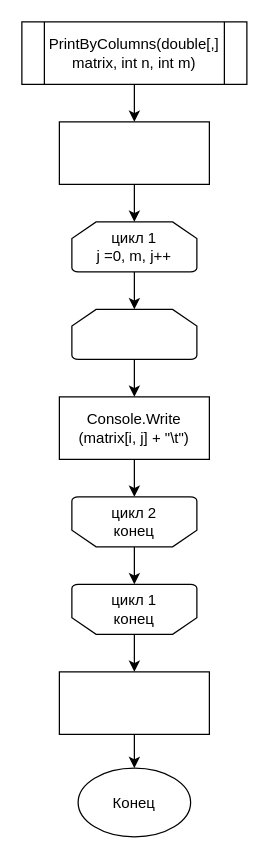
This 269x859 diagram has some shape labels left out. The shapes that lost their labels are listed below. From the top down, each one's centre as x and y in pixels, then its label:
(133,152): Console.WriteLine ("\nВывод по столбцам")
(134,333): цикл 2 i =0, n, i++
(133,702): Console.WriteLine()
